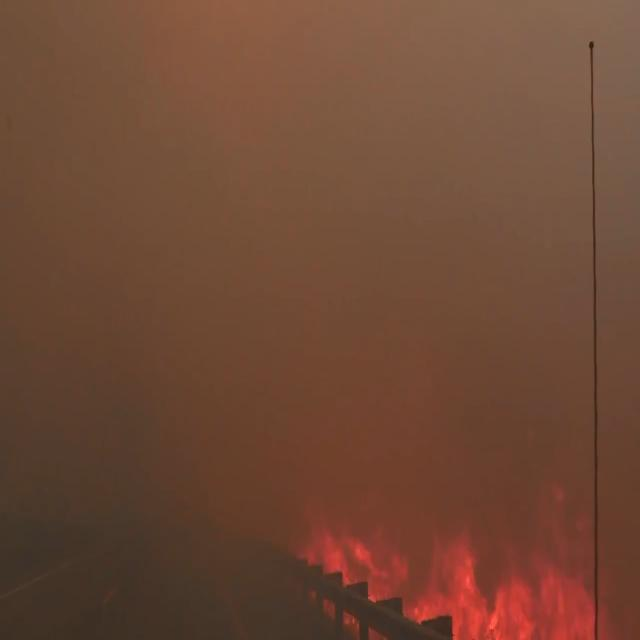Fire: (304, 514, 613, 640)
